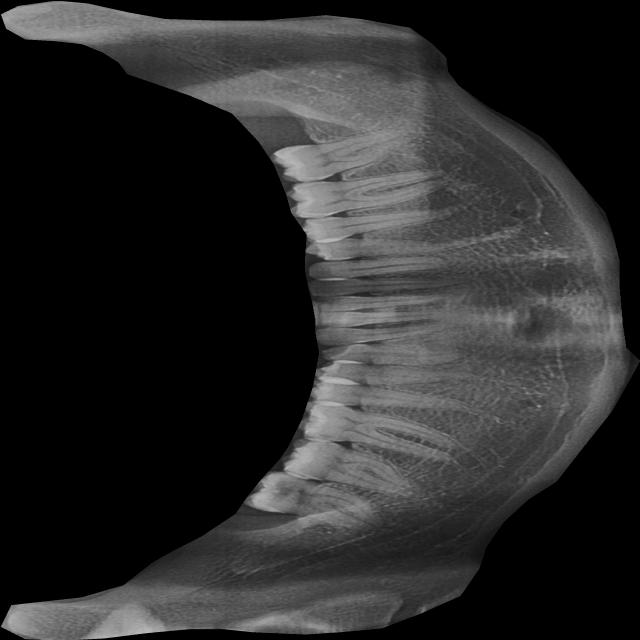mandibula: (1, 0, 640, 640)
